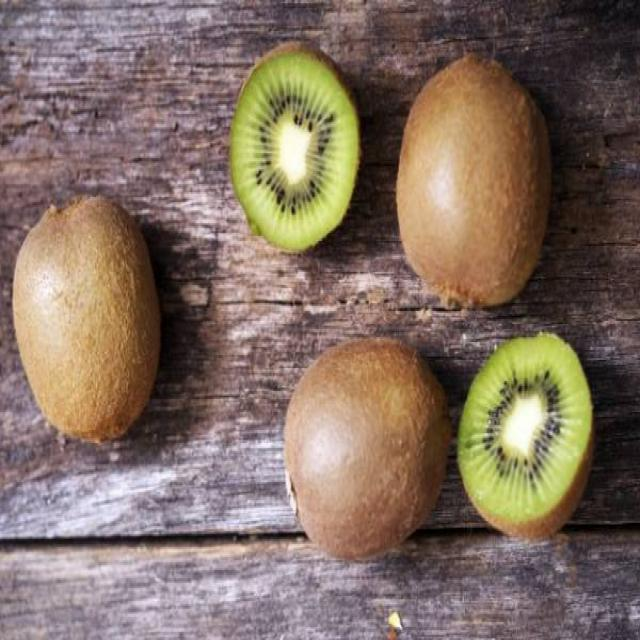kiwi: (388, 51, 552, 306), (278, 332, 449, 564), (12, 192, 162, 448), (226, 37, 363, 259), (453, 334, 598, 542)
